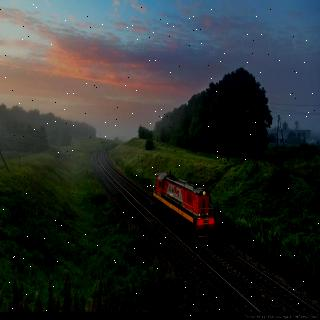poezd: (154, 174, 216, 238)
